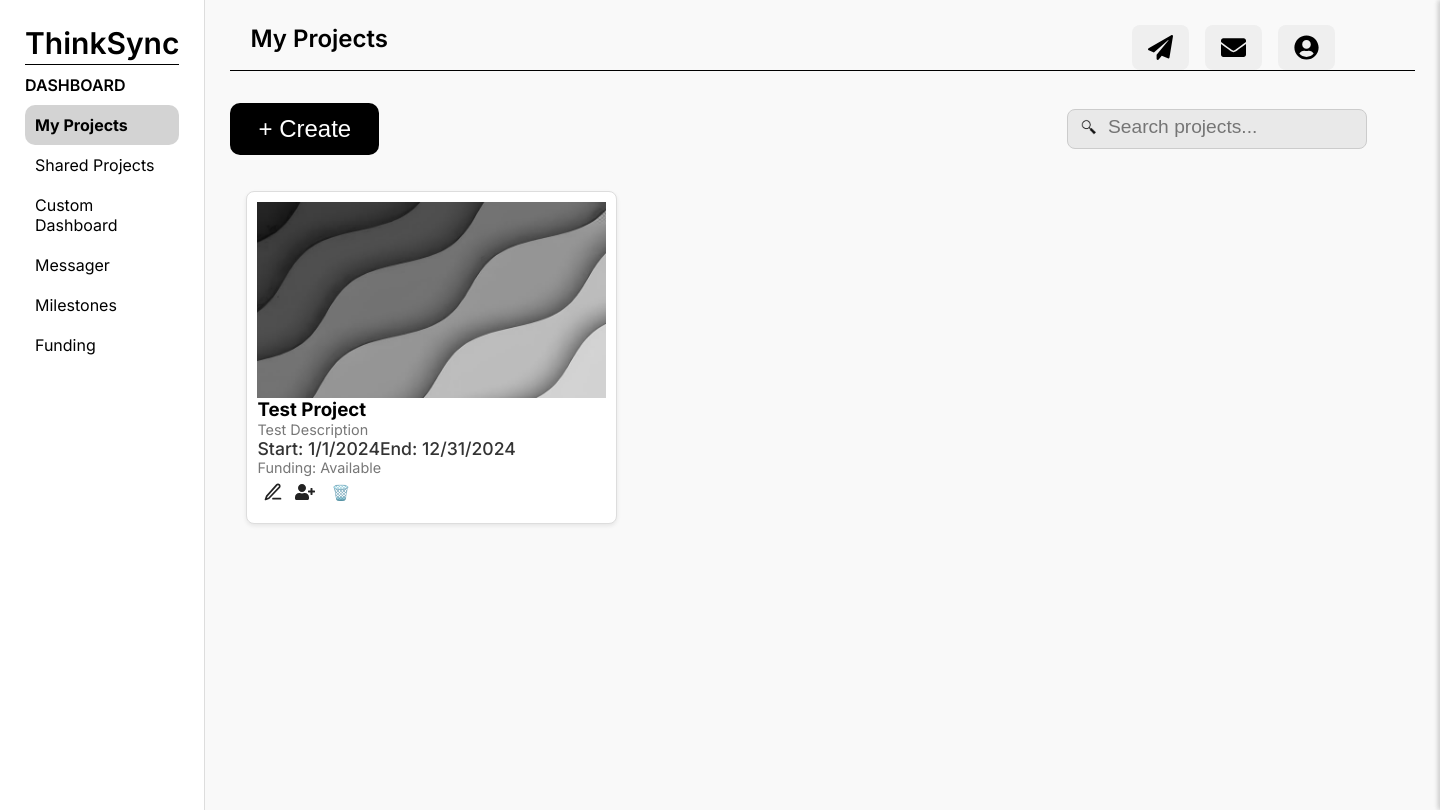
ResearcherDashboard › handles project deletion
This screenshot has width=1440, height=810.
Check: the heading "Test Project" is shown, box left=258, top=398, right=366, bottom=421
# Click delete button
Click the button titled "Delete project".
click(338, 495)  # box left=322, top=478, right=355, bottom=512
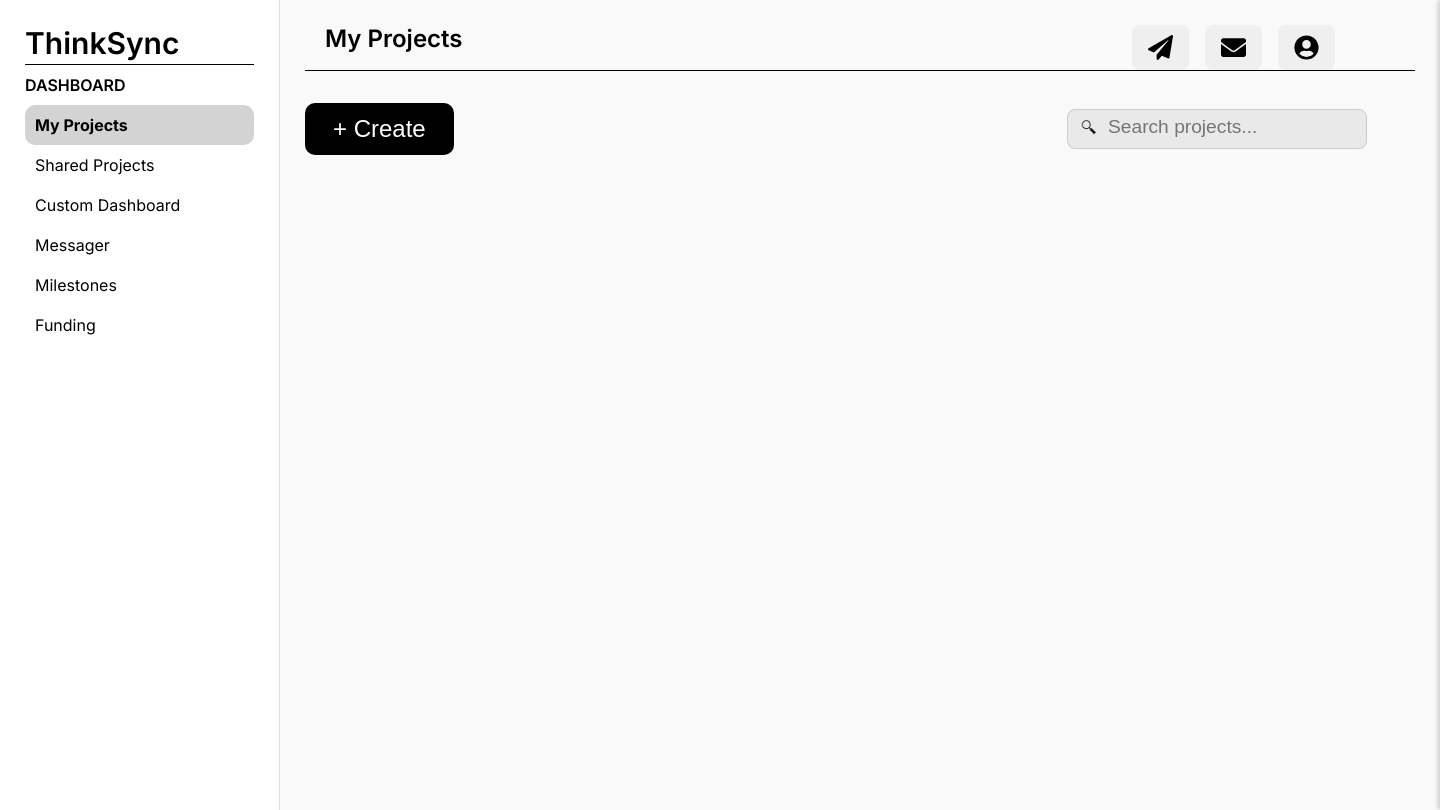
Check: the heading "Test Project" is gone
